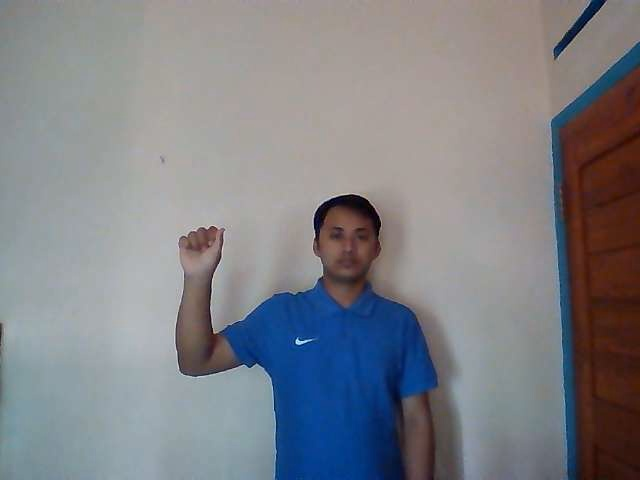A: (176, 225, 227, 276)
